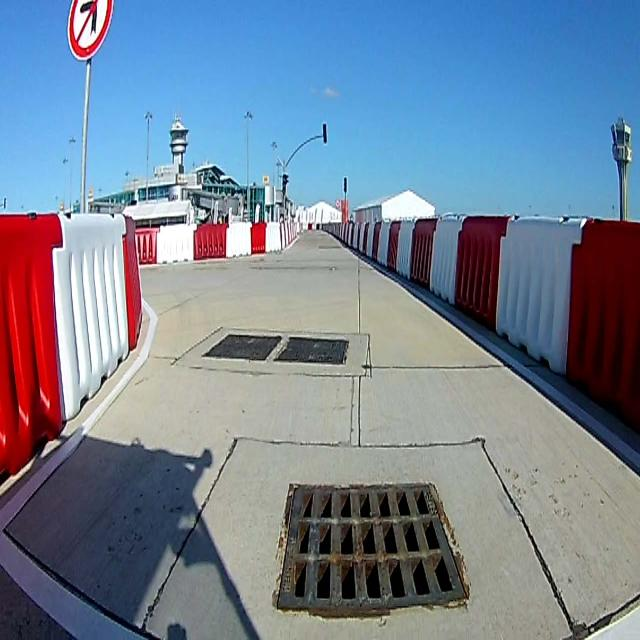soladonulmez: (67, 1, 116, 62)
